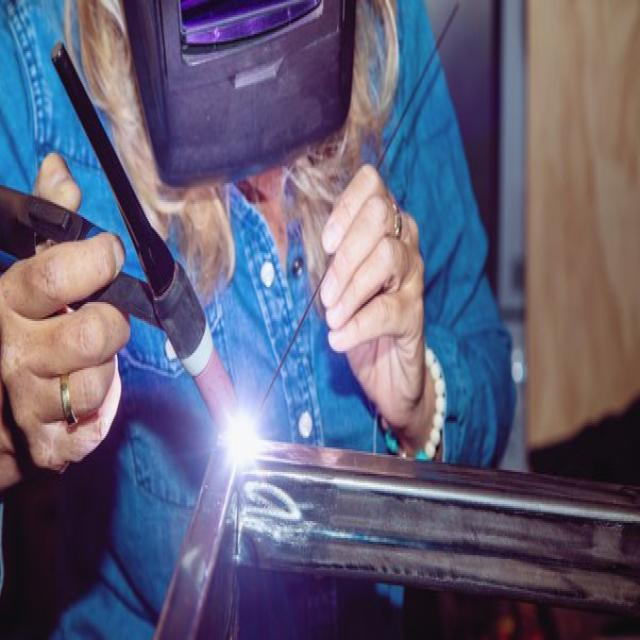with_helmet: (121, 0, 359, 187)
